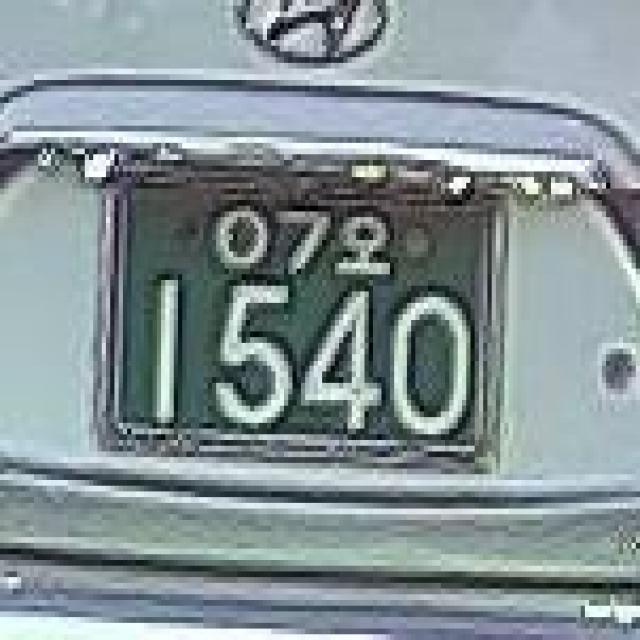illegal_plate: (84, 146, 522, 486)
